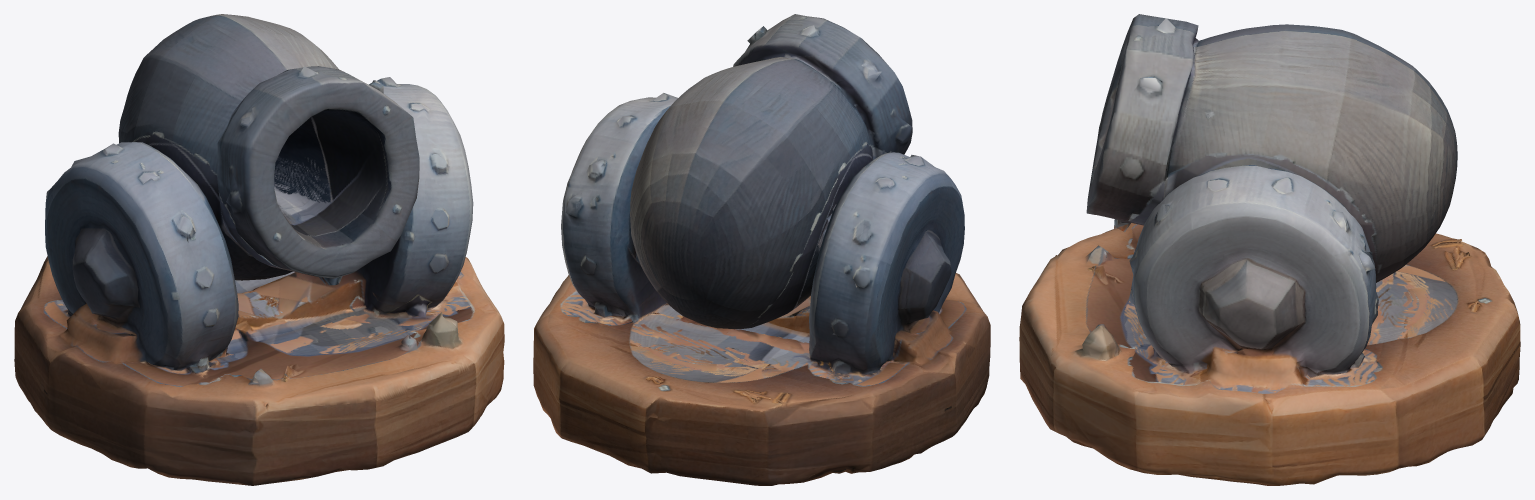
File: Lowpoly Metal Cannon.glb
3 views of the same model, side by side, from view 1: azimuth 30°, elevation 25°; view 2: azimuth 150°, elevation 25°; view 3: azimuth 270°, elevation 25° (orthographic). The views are drawn at different scales.
Parts seen in each view (by area): view 1: texture_mapping; view 2: texture_mapping; view 3: texture_mapping.
Part boxes in pixels (left/top/right/bottom): texture_mapping: left=14, top=14, right=504, bottom=485; texture_mapping: left=533, top=14, right=990, bottom=485; texture_mapping: left=1019, top=14, right=1520, bottom=485.
Bounding box in the file's own units: 0.979 × 0.7991 × 0.9918.
Materials: 1 (1 with a texture image).
